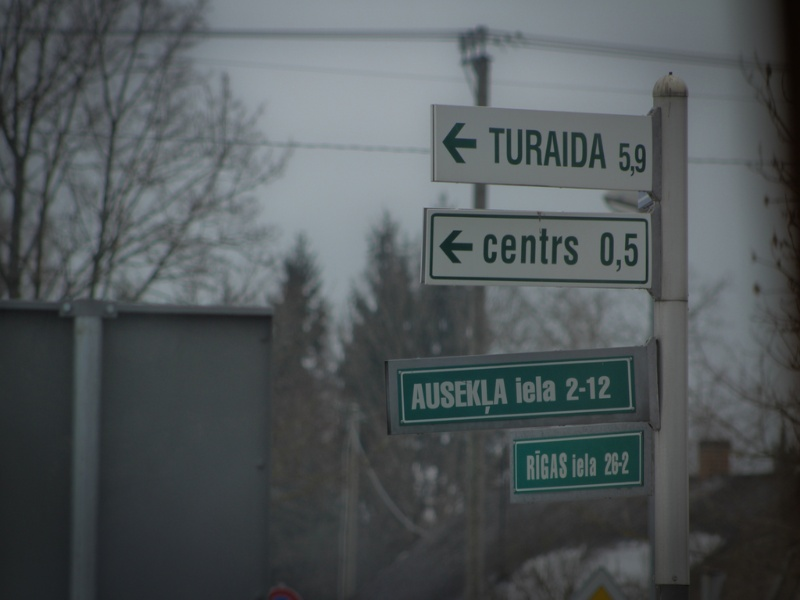left_direction: (438, 116, 484, 167), (438, 226, 478, 264)
